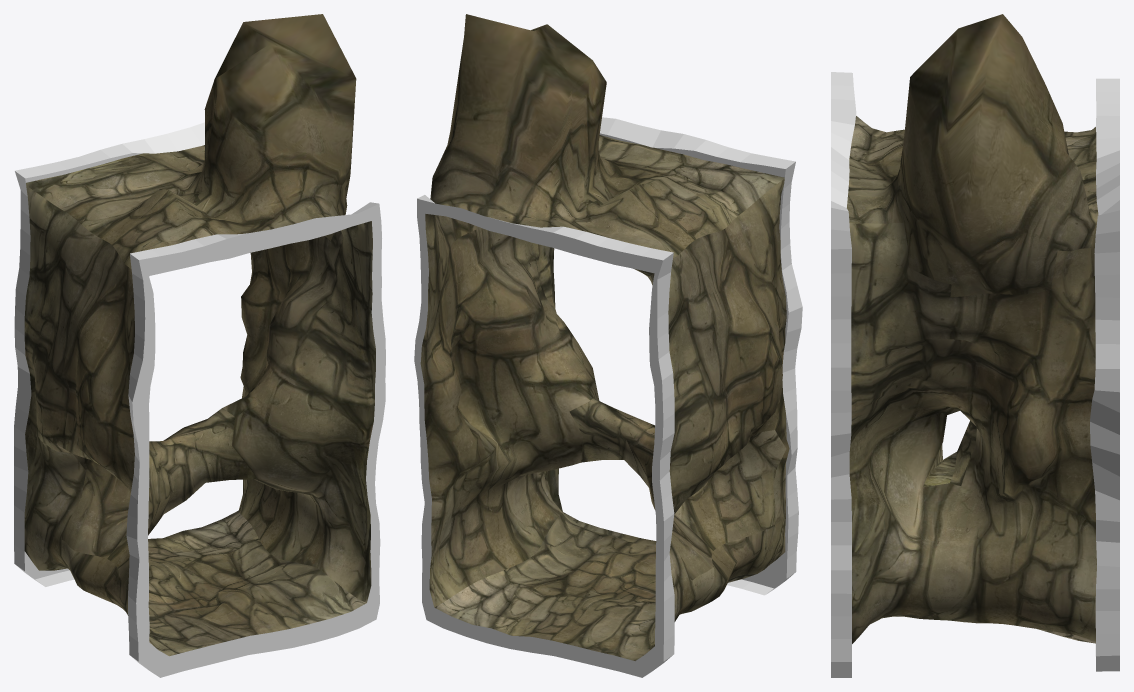
Rendered from cave module 9.fbx.
The picture shows the model from 3 angles, left to right: view 1: azimuth 30°, elevation 25°; view 2: azimuth 150°, elevation 25°; view 3: azimuth 270°, elevation 25°; orthographic projection. The views are drawn at different scales.
Visible parts, largest first — view 1: Plane.9; view 2: Plane.9; view 3: Plane.9.
Boxes of the visible parts, x1=… form: Plane.9: x1=14, y1=14, x2=385, y2=677; Plane.9: x1=414, y1=14, x2=802, y2=677; Plane.9: x1=831, y1=14, x2=1119, y2=677.
Bounding box in the file's own units: 786 × 1470 × 600.
